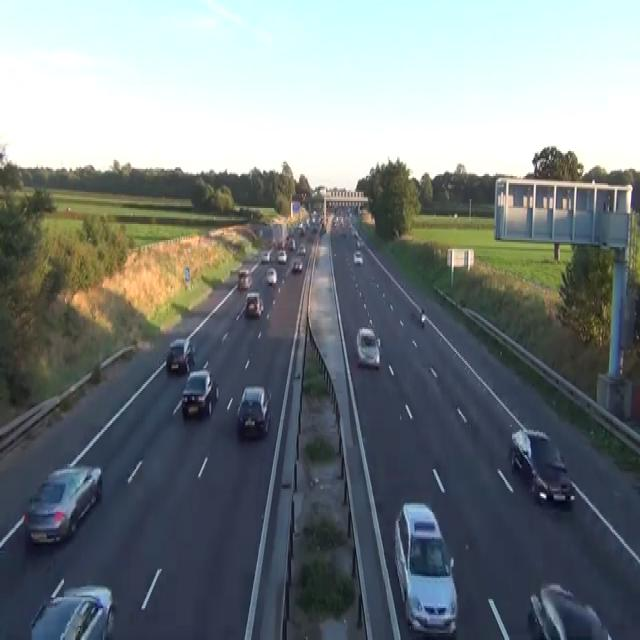Car: (393, 502, 458, 636), (23, 464, 102, 546), (510, 427, 575, 505), (29, 580, 114, 638), (529, 582, 613, 638), (181, 368, 219, 418), (236, 386, 271, 437), (165, 338, 195, 373), (356, 325, 380, 368), (245, 290, 263, 316), (237, 268, 252, 290), (411, 306, 426, 325), (266, 267, 277, 286), (353, 249, 363, 265), (286, 234, 296, 250), (277, 249, 287, 263), (292, 260, 302, 272), (260, 251, 270, 263), (420, 308, 425, 327), (298, 222, 305, 235), (311, 210, 320, 220), (298, 244, 306, 254), (356, 237, 363, 247), (339, 226, 346, 236), (332, 217, 338, 227), (320, 224, 326, 233), (352, 228, 358, 236)
